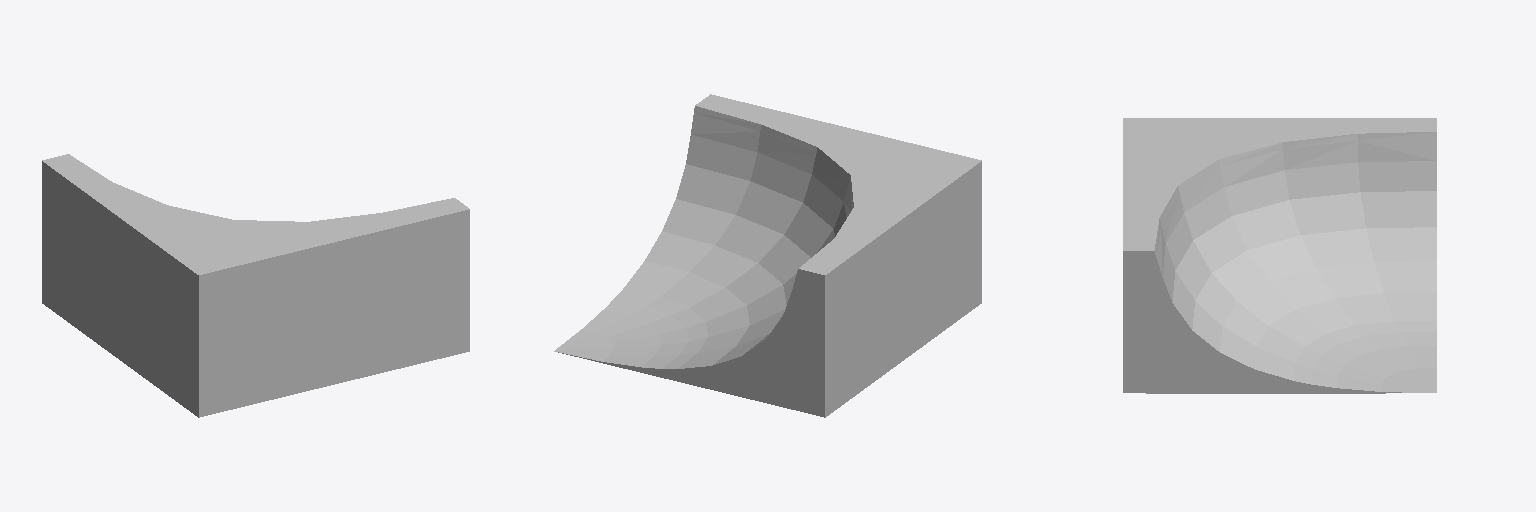
Rendered from Quater_LRG_Bowl.obj.
3 views of the same model, side by side, from view 1: azimuth 30°, elevation 25°; view 2: azimuth 150°, elevation 25°; view 3: azimuth 270°, elevation 25° (orthographic).
Visible parts, largest first — view 1: Quater_LRG_Bowl; view 2: Quater_LRG_Bowl; view 3: Quater_LRG_Bowl.
Boxes of the visible parts, <box> form: Quater_LRG_Bowl: <box>42,154,469,417</box>; Quater_LRG_Bowl: <box>554,94,981,417</box>; Quater_LRG_Bowl: <box>1123,118,1436,393</box>.
Bounding box in the file's own units: 20 × 10 × 20.